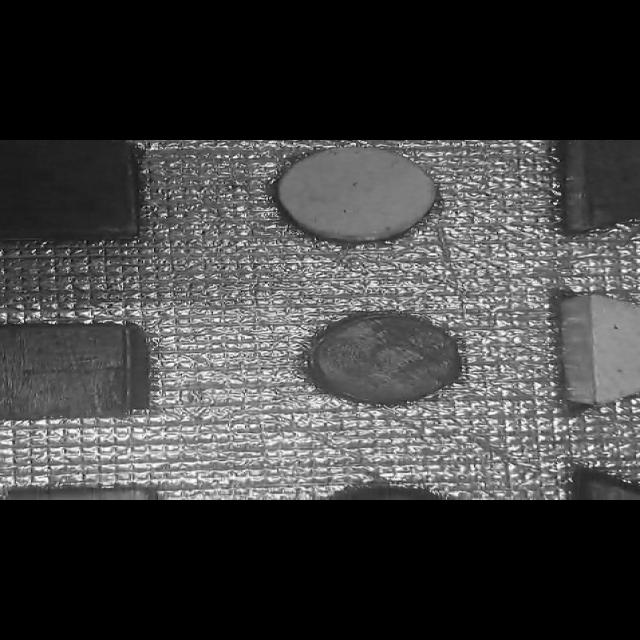bcube: (0, 309, 158, 418)
rcircle: (292, 300, 506, 422)
ycircle: (263, 140, 464, 254)
